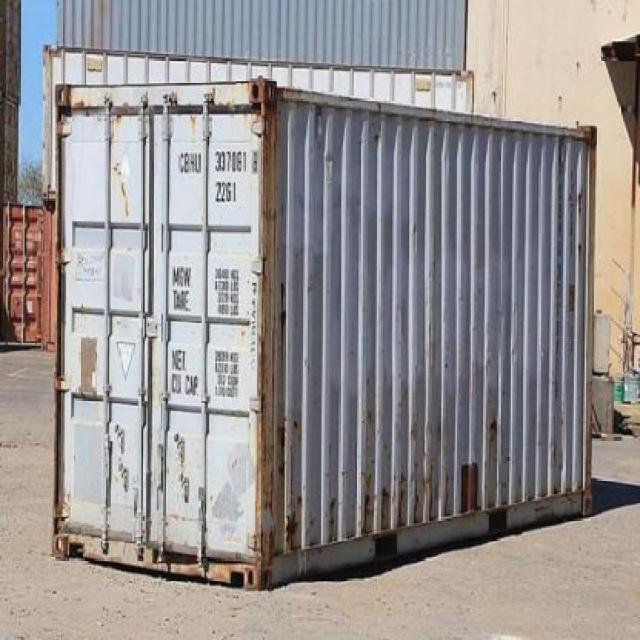rust: (461, 464, 479, 513), (286, 512, 300, 546), (400, 473, 406, 527), (383, 487, 390, 524), (278, 429, 286, 453), (366, 495, 370, 533), (490, 418, 498, 433), (331, 499, 337, 515)
